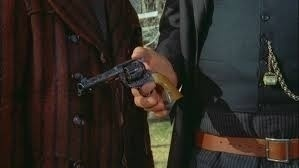pistol: (71, 52, 185, 110)
